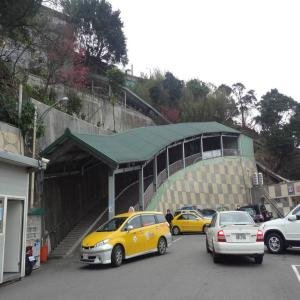Vehicle-registration-plate: (233, 234, 251, 241), (83, 255, 89, 261)
